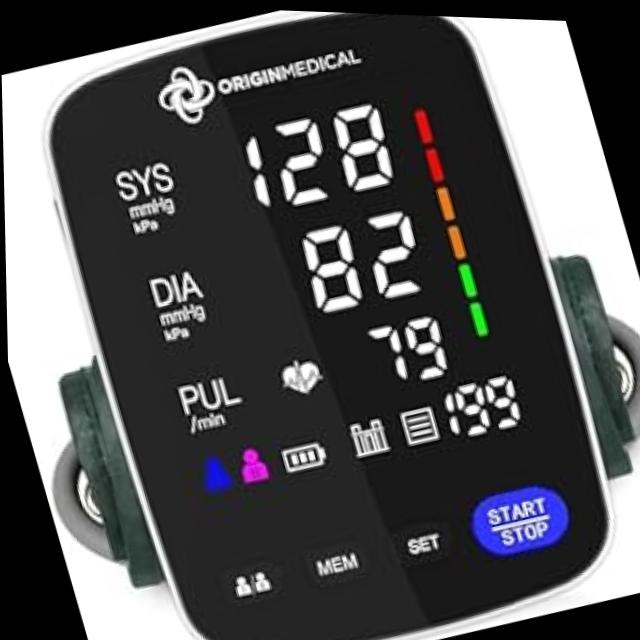dia: (283, 196, 438, 321)
pul: (351, 298, 462, 390)
ssd: (89, 67, 535, 520)
sys: (222, 74, 405, 224)
